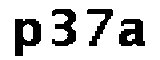3: (48, 7, 78, 48)
7: (83, 6, 114, 52)
a: (117, 16, 147, 51)
p: (11, 15, 41, 60)
